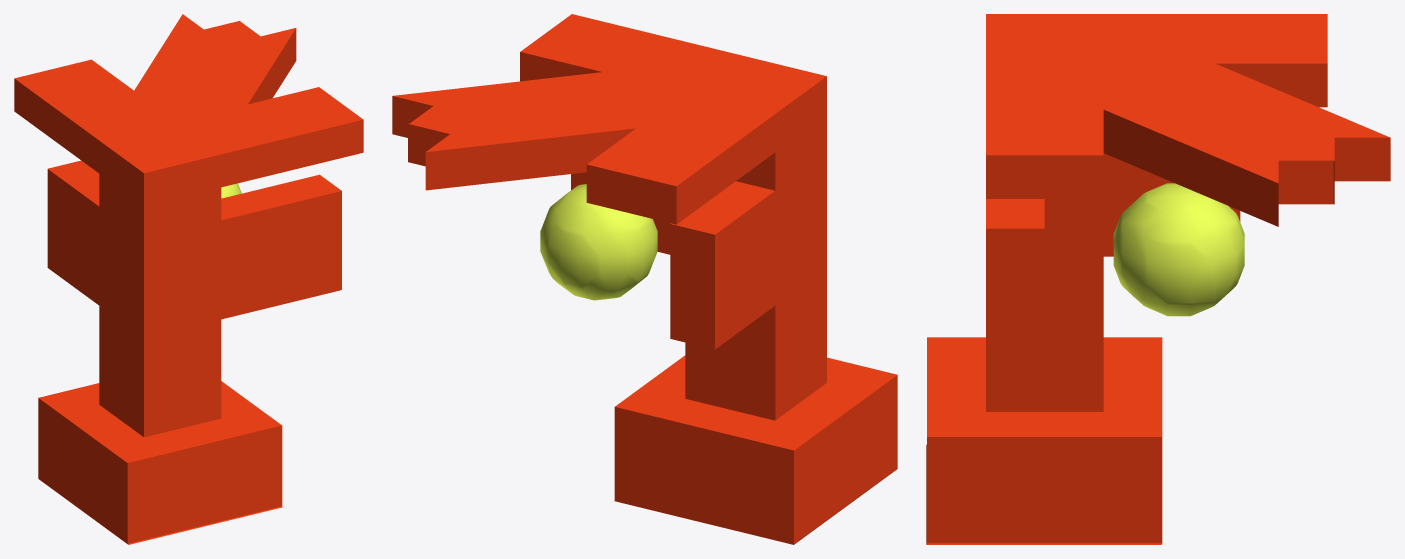
The model's file is LamparaFlechaRecta.obj.
3 views of the same model, side by side, from view 1: azimuth 30°, elevation 25°; view 2: azimuth 150°, elevation 25°; view 3: azimuth 270°, elevation 25° (orthographic). The views are drawn at different scales.
Visible parts, largest first — view 1: Cube; view 2: Cube, Mball; view 3: Cube, Mball.
Part boxes in pixels (<box>): Cube: <box>14,14,363,544</box>; Cube: <box>392,14,897,544</box>; Mball: <box>540,184,657,300</box>; Cube: <box>926,14,1390,544</box>; Mball: <box>1113,183,1244,316</box>.
Size of the model in its own units: 3.91 by 4.28 by 3.95.
